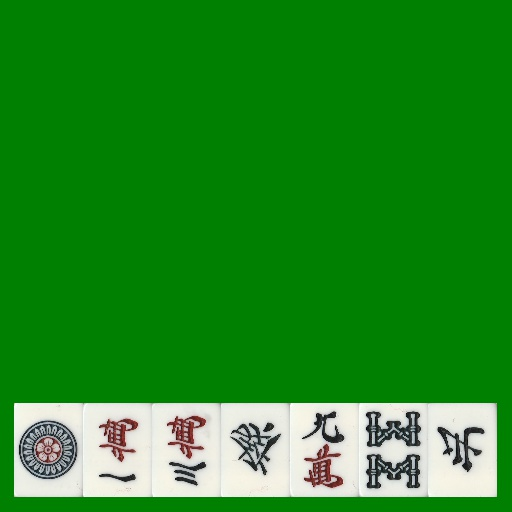1m: (83, 403, 152, 497)
1p: (14, 403, 83, 497)
3m: (152, 403, 221, 497)
8s: (359, 403, 428, 497)
9m: (290, 403, 359, 497)
hatsu: (221, 403, 290, 497)
north: (428, 403, 497, 497)
